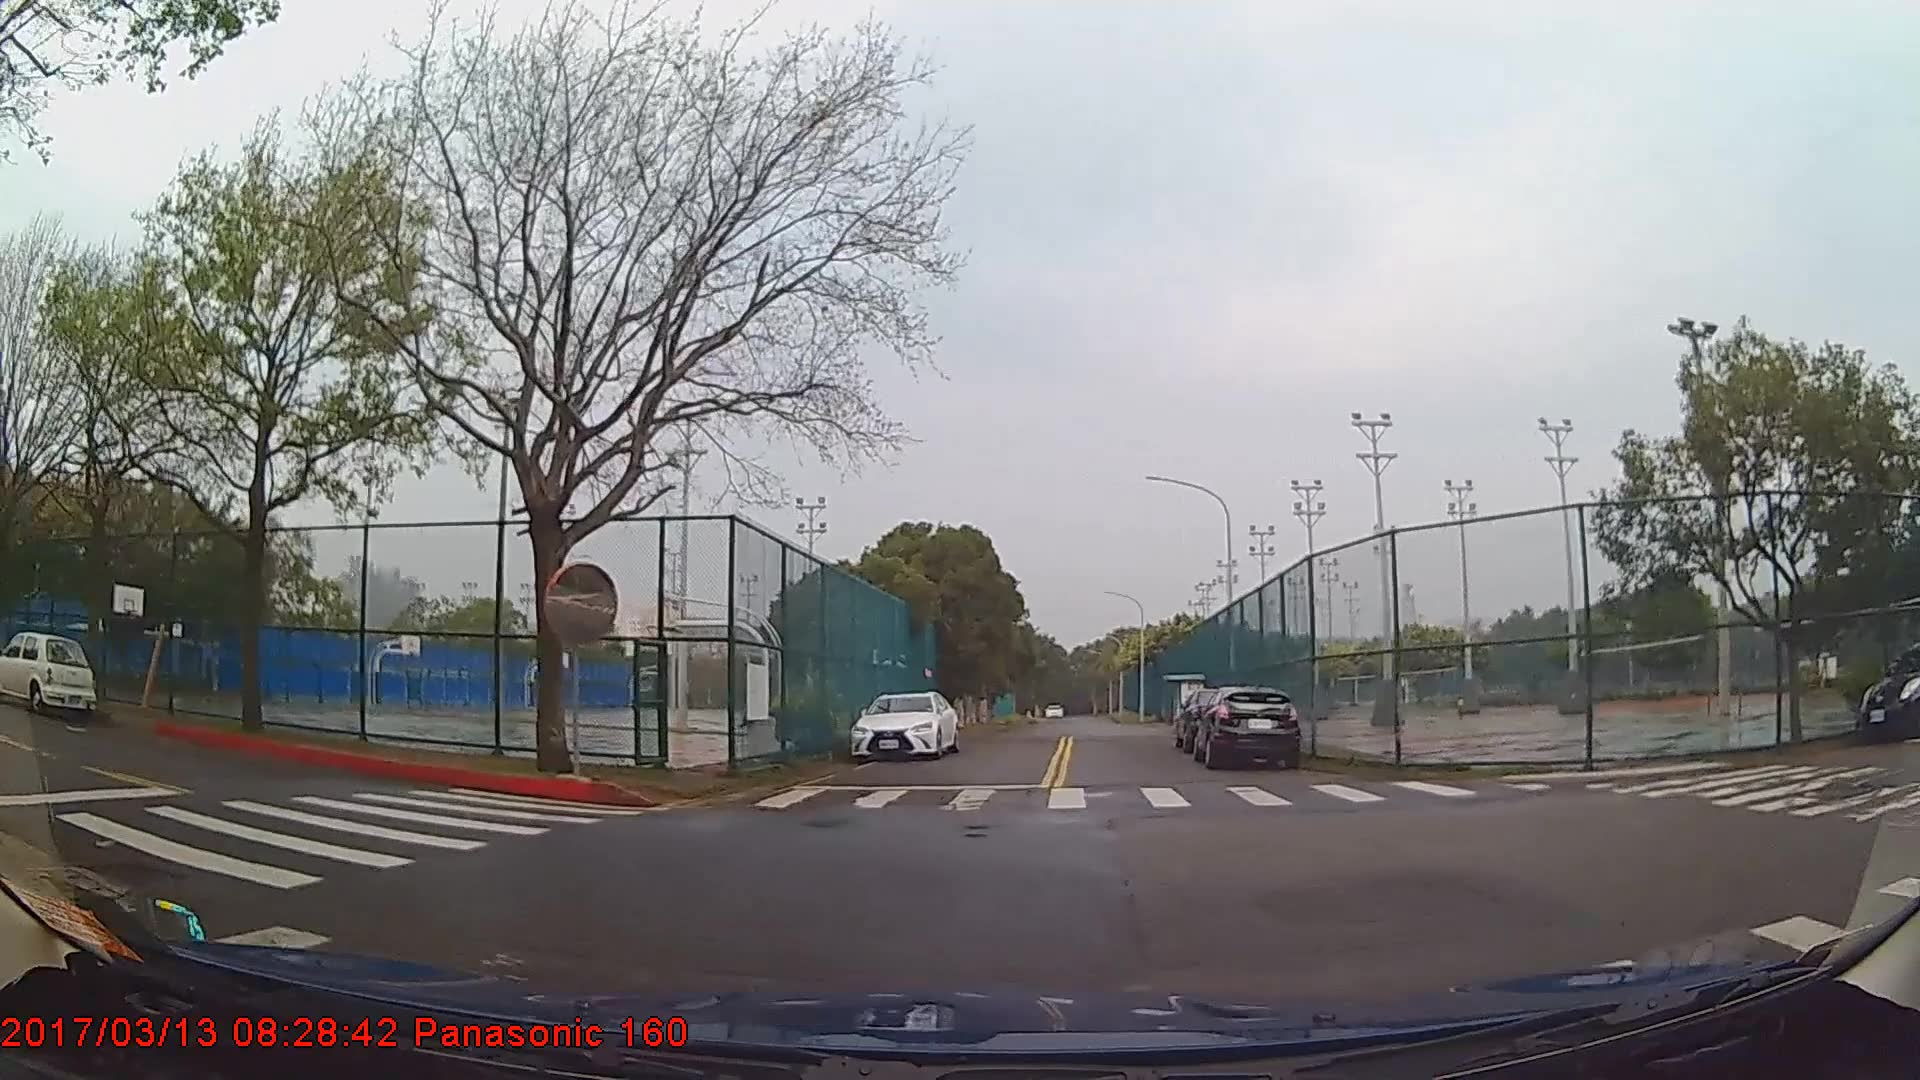vehicle: (1193, 683, 1302, 770), (0, 629, 96, 717), (851, 688, 960, 764), (1858, 644, 1920, 740)
